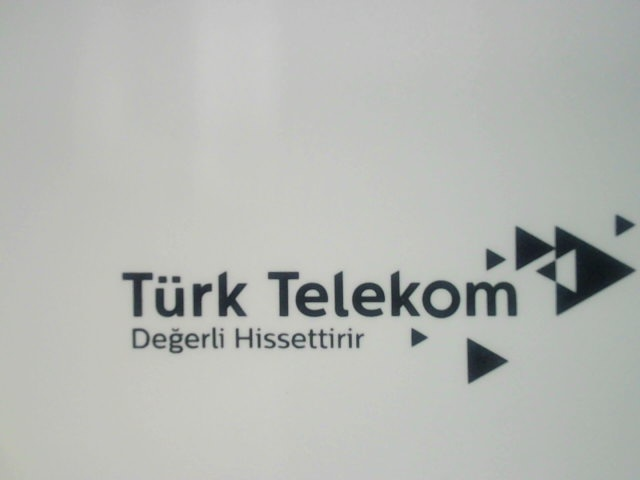AQ_TURKTelekom: (90, 205, 639, 393)
